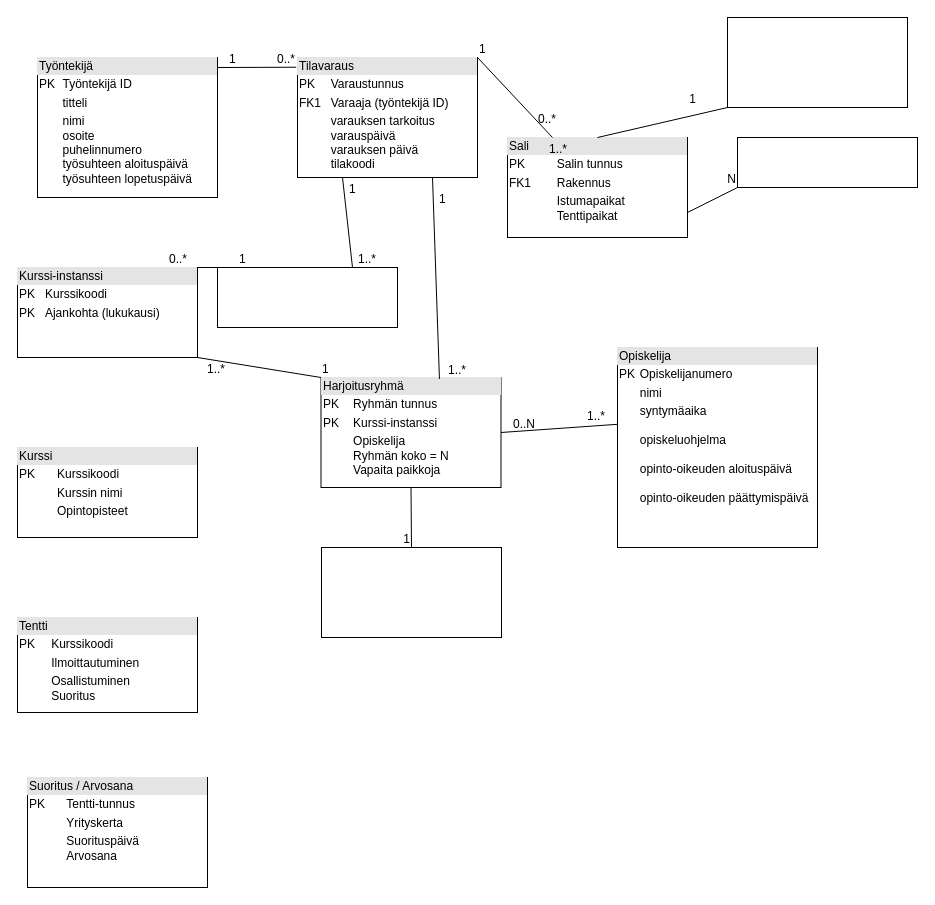
Image size: 935x905. Some labels were removed from this diagram. Here are the shapes that lost their labels. From the top down, the centre of each, then its label:
point 817,62: Rakennus PK Nimi PK Osoite Sali
point 827,162: Välineistö PK Tavaratunnus
point 307,297: Luento PK Kurssikoodi Kurssi-instanssi
point 411,592: Harjoituspisteet PK Harjoitusryhmän tunnus PK Opiskelijanumero pisteet
